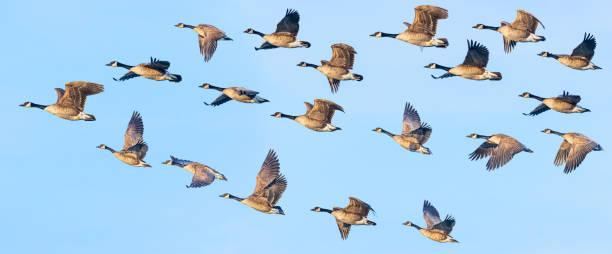Canadian-Goose: (218, 150, 290, 214), (17, 79, 103, 124), (368, 4, 450, 51), (425, 41, 501, 89), (469, 8, 548, 52), (240, 6, 309, 56), (370, 102, 434, 155), (295, 43, 363, 91), (97, 112, 151, 170), (310, 195, 377, 241), (269, 95, 344, 136), (537, 32, 605, 74), (103, 54, 184, 89), (543, 125, 602, 172), (401, 198, 460, 245), (174, 18, 232, 63), (467, 130, 532, 170), (518, 87, 591, 120), (164, 153, 227, 189), (195, 79, 268, 110)
